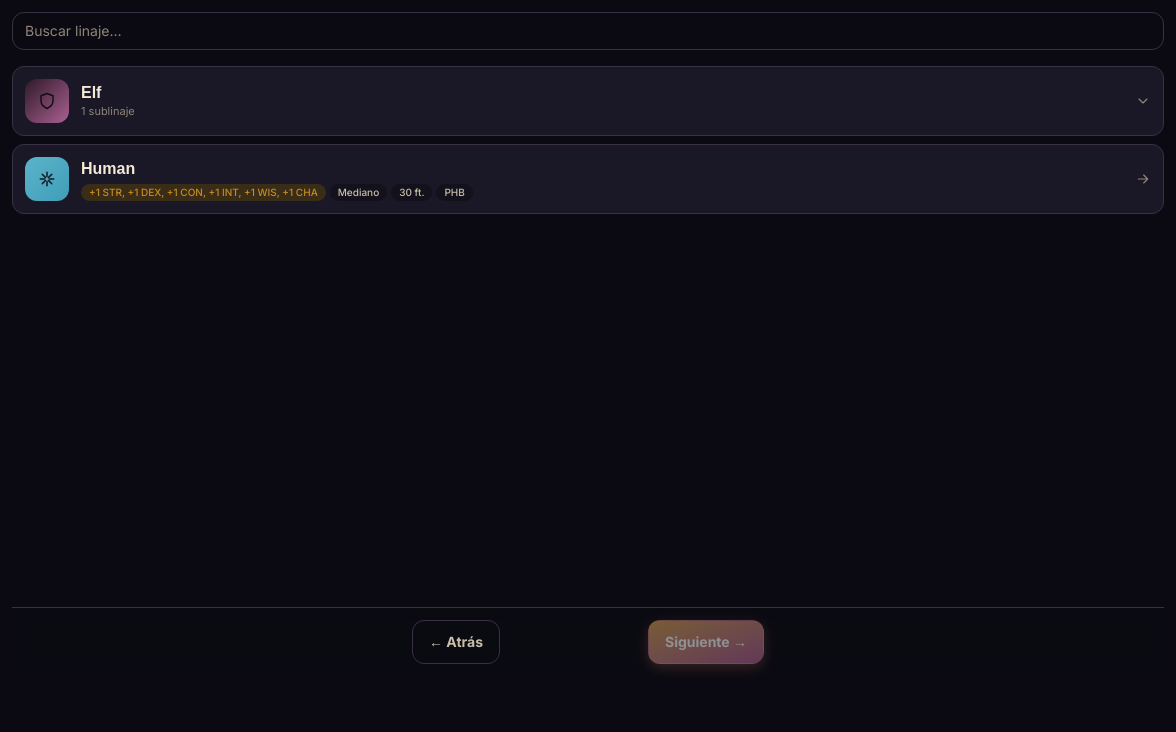
Test: W-E3: subraces are hidden by default; visible after expanding the group › High Elf subrace card IS visible after clicking the Elf group header
This screenshot has width=1176, height=732.
Click the button "Elf 1 sublinaje": {"x": 47, "y": 101} [13,67,1163,135]
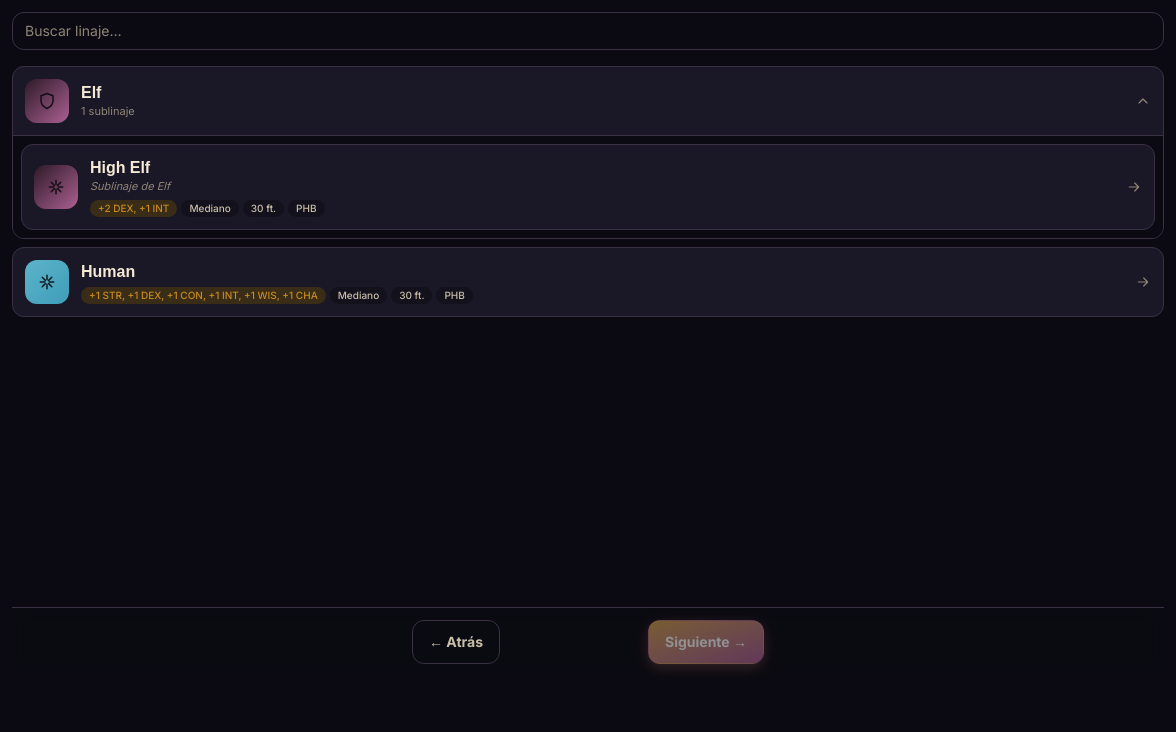
Expected: the text "High Elf" is shown, [90,156,150,178]
